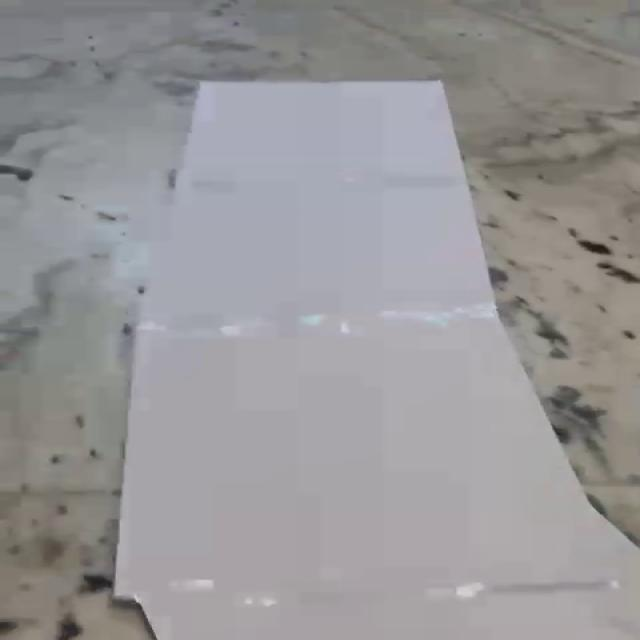road: (113, 79, 640, 640)
